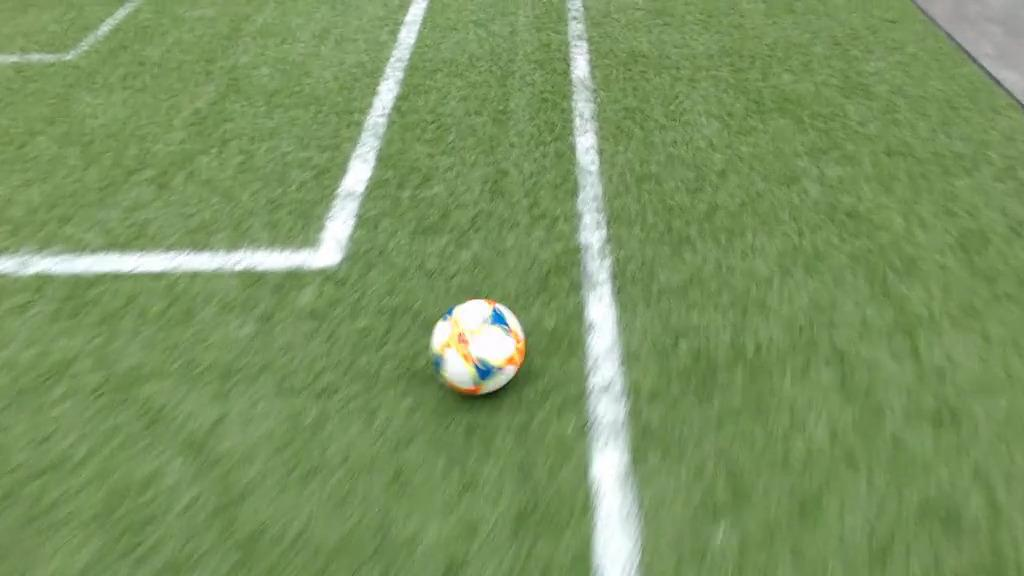ball: (431, 300, 524, 395)
